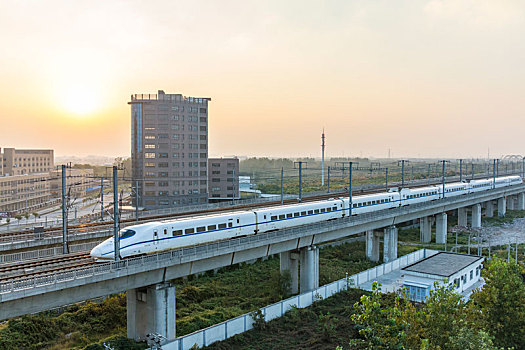hsrw: (91, 174, 524, 264)
